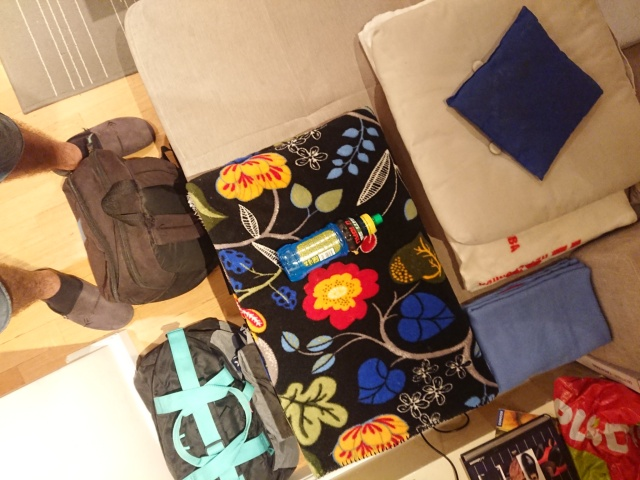Vindi Iso Sport Forest Strawberries 500mL: (274, 210, 384, 283)
